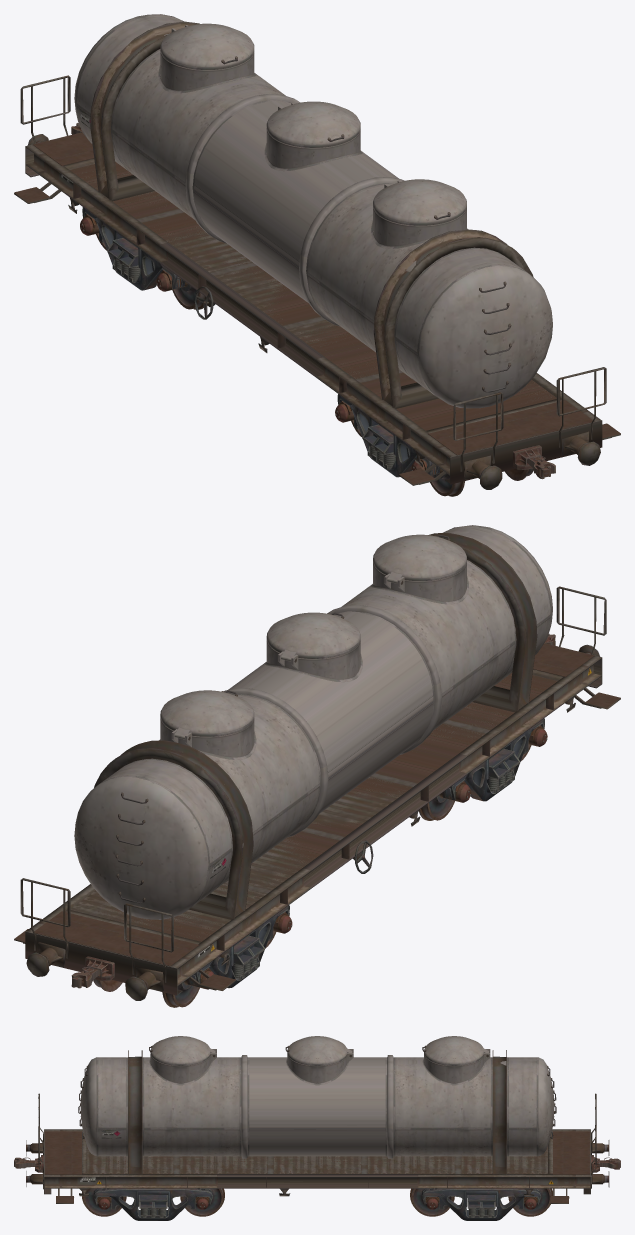
Rendered from trainwagonunloadablefuel.entity.glb.
3 views of the same model, one above another, from view 1: azimuth 30°, elevation 25°; view 2: azimuth 150°, elevation 25°; view 3: azimuth 270°, elevation 25° (orthographic). The views are drawn at different scales.
Visible parts, largest first — view 1: train_wagon_fuel_tank_LOD0, train_wagon_flatbed_LOD0, train_wagon_fuel_tank_hatch_door_LOD0 (×3), train_wagon_fuel_tank_hatch_LOD0 (×3), BackTrucks_LOD0, FrontTrucks_LOD0, Coupler_LOD0; view 2: train_wagon_fuel_tank_LOD0, train_wagon_flatbed_LOD0, train_wagon_fuel_tank_hatch_door_LOD0 (×3), train_wagon_fuel_tank_hatch_LOD0 (×3), FrontTrucks_LOD0, BackTrucks_LOD0, Coupler_LOD0; view 3: train_wagon_fuel_tank_LOD0, train_wagon_flatbed_LOD0, train_wagon_fuel_tank_hatch_door_LOD0 (×3), FrontTrucks_LOD0, BackTrucks_LOD0, train_wagon_fuel_tank_hatch_LOD0 (×3), Coupler_LOD0.
Boxes of the visible parts, <box> form: train_wagon_fuel_tank_LOD0: <box>74,14,552,408</box>; train_wagon_flatbed_LOD0: <box>14,75,620,489</box>; train_wagon_fuel_tank_hatch_door_LOD0 (×3): <box>160,23,466,225</box>; train_wagon_fuel_tank_hatch_LOD0 (×3): <box>158,25,467,248</box>; BackTrucks_LOD0: <box>80,207,205,309</box>; FrontTrucks_LOD0: <box>335,394,533,496</box>; Coupler_LOD0: <box>71,123,555,479</box>; train_wagon_fuel_tank_LOD0: <box>74,525,552,919</box>; train_wagon_flatbed_LOD0: <box>14,586,620,1000</box>; train_wagon_fuel_tank_hatch_door_LOD0 (×3): <box>160,534,466,740</box>; train_wagon_fuel_tank_hatch_LOD0 (×3): <box>159,563,468,759</box>; FrontTrucks_LOD0: <box>418,718,547,820</box>; BackTrucks_LOD0: <box>93,905,292,1007</box>; Coupler_LOD0: <box>71,633,555,988</box>; train_wagon_fuel_tank_LOD0: <box>78,1050,556,1174</box>; train_wagon_flatbed_LOD0: <box>26,1093,609,1203</box>; train_wagon_fuel_tank_hatch_door_LOD0 (×3): <box>149,1036,488,1065</box>; FrontTrucks_LOD0: <box>82,1188,224,1220</box>; BackTrucks_LOD0: <box>410,1188,552,1220</box>; train_wagon_fuel_tank_hatch_LOD0 (×3): <box>149,1049,490,1085</box>; Coupler_LOD0: <box>14,1155,620,1172</box>.
Bounding box in the file's own units: 4.25 × 4.99 × 16.65.
2 materials, 2 textured.
